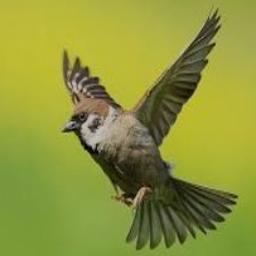Sparrow: (62, 5, 238, 250)
